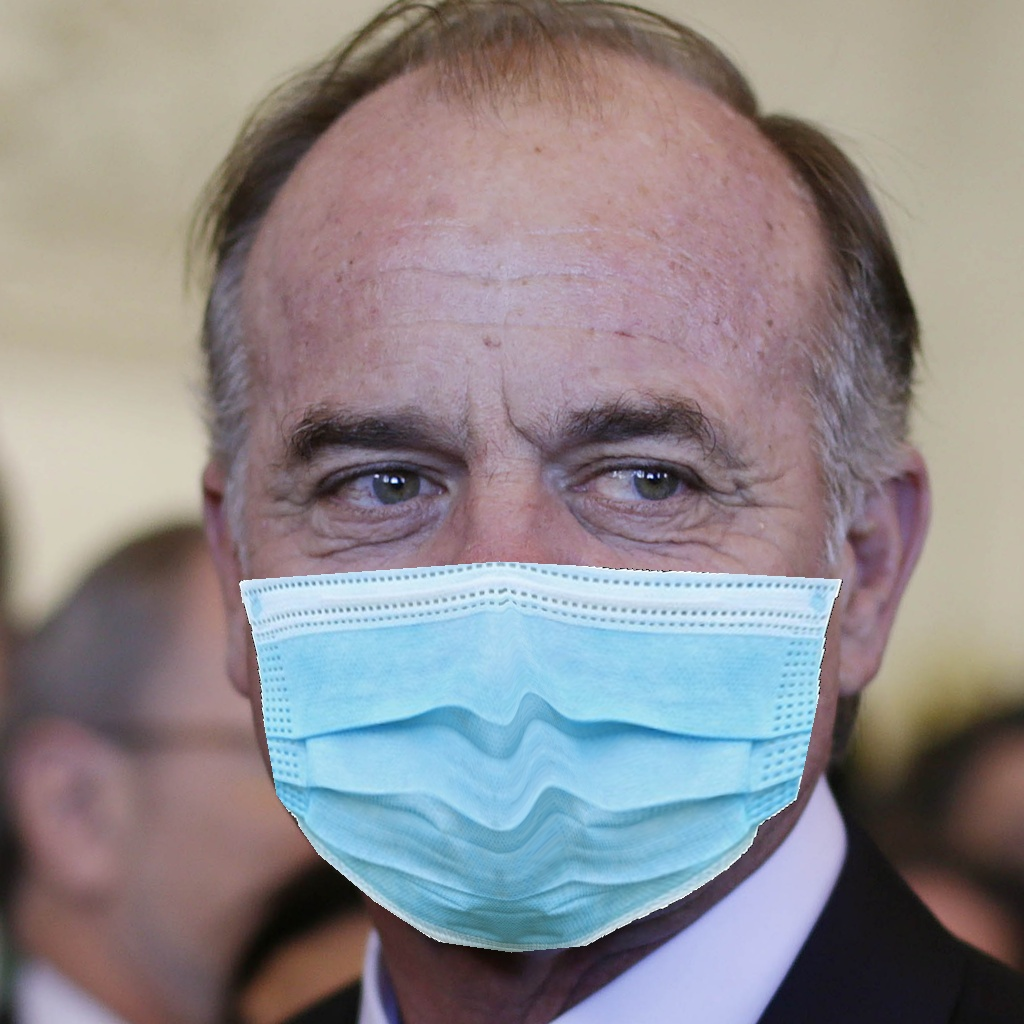Mask: (227, 365, 843, 951)
